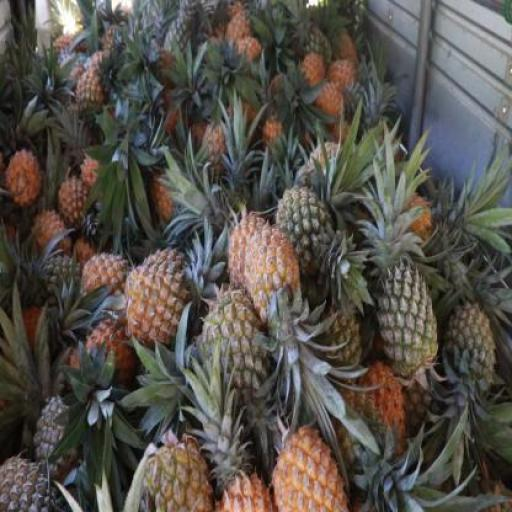------------------------------: (193, 288, 265, 398), (274, 189, 338, 287), (142, 443, 214, 512), (72, 67, 104, 126)
Pineapple - v8 v1: (270, 422, 350, 511), (124, 245, 194, 346), (243, 228, 303, 330), (226, 214, 274, 302), (80, 248, 126, 310), (55, 173, 93, 227), (5, 146, 37, 204)
